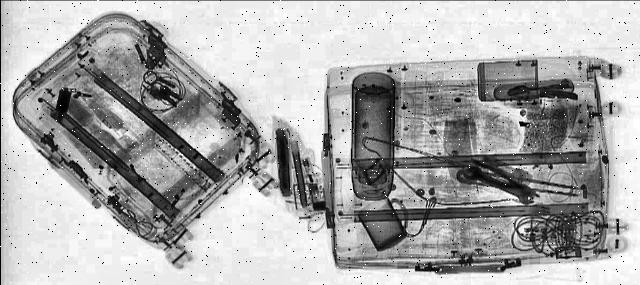Wrench: (448, 164, 552, 206)
